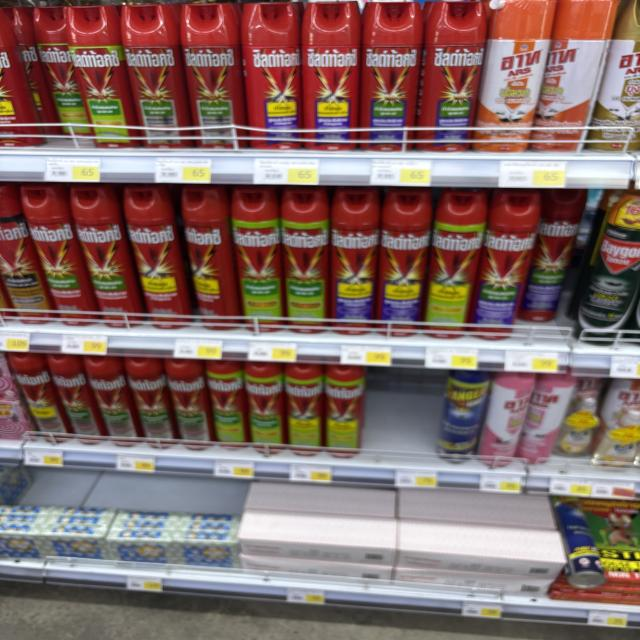empty_shelf: (362, 366, 450, 462)
